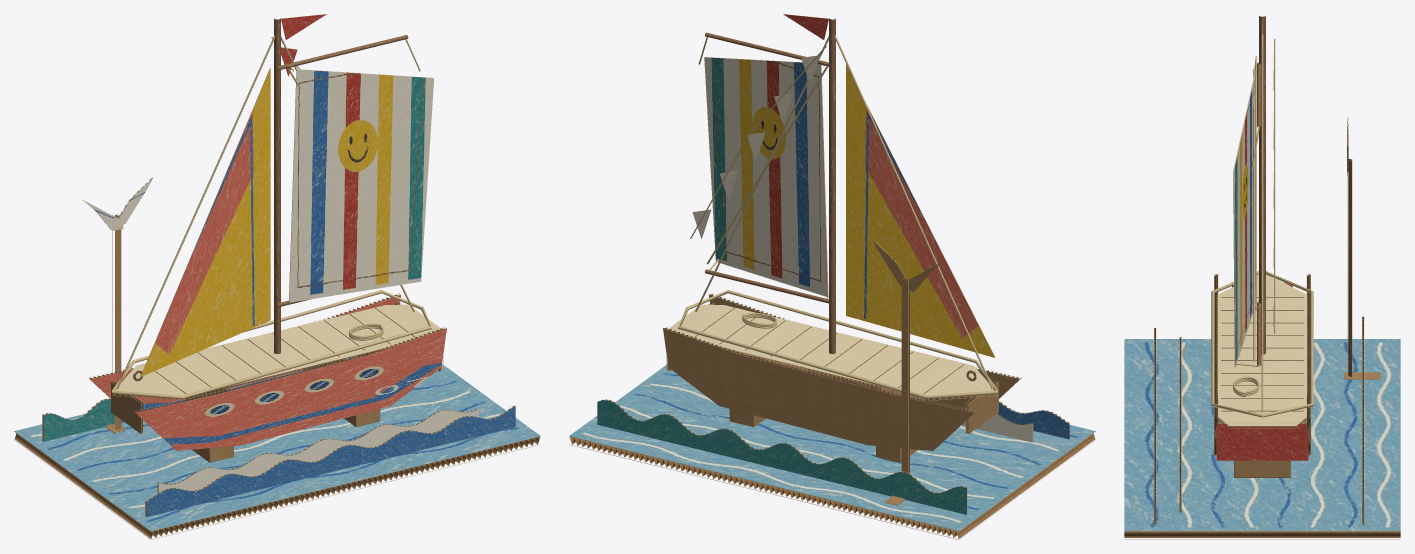
Rendered from 07_rainbow_sailboat.glb.
The picture shows the model from 3 angles, left to right: view 1: azimuth 30°, elevation 25°; view 2: azimuth 150°, elevation 25°; view 3: azimuth 270°, elevation 25°; orthographic projection.
Visible parts, largest first — view 1: artwork_07_rainbow_sailboat, cream, blue, flute, edge, twine, white, brown, kraft, teal, red; view 2: artwork_07_rainbow_sailboat, kraft, cream, teal, flute, twine, brown, edge, paper, blue, white; view 3: artwork_07_rainbow_sailboat, cream, flute, twine, edge, red, brown, kraft.
Boxes of the visible parts, box(x1,y1,x2,y2) form: artwork_07_rainbow_sailboat: box(14, 68, 540, 530); cream: box(112, 68, 440, 395); blue: box(146, 406, 515, 516); flute: box(14, 178, 540, 538); edge: box(14, 14, 540, 539); twine: box(111, 35, 431, 398); white: box(158, 409, 478, 492); brown: box(133, 18, 415, 393); kraft: box(105, 216, 439, 462); teal: box(43, 399, 124, 441); red: box(281, 14, 326, 76); artwork_07_rainbow_sailboat: box(569, 57, 1095, 530); kraft: box(663, 239, 1019, 504); cream: box(668, 304, 994, 395); teal: box(597, 400, 966, 514); flute: box(569, 239, 1095, 538); twine: box(678, 35, 998, 398); brown: box(694, 18, 964, 393); edge: box(569, 14, 1095, 539); paper: box(692, 55, 819, 238); blue: box(997, 402, 1069, 439); white: box(962, 414, 1032, 442); artwork_07_rainbow_sailboat: box(1124, 58, 1400, 530); cream: box(1217, 274, 1307, 425); flute: box(1124, 118, 1400, 537); twine: box(1211, 34, 1313, 417); edge: box(1124, 19, 1400, 539); red: box(1216, 283, 1308, 460); brown: box(1221, 16, 1303, 411); kraft: box(1219, 372, 1380, 477).
Bounding box in the file's own units: 0.56 × 0.582 × 0.34.
15 materials, 13 textured.
